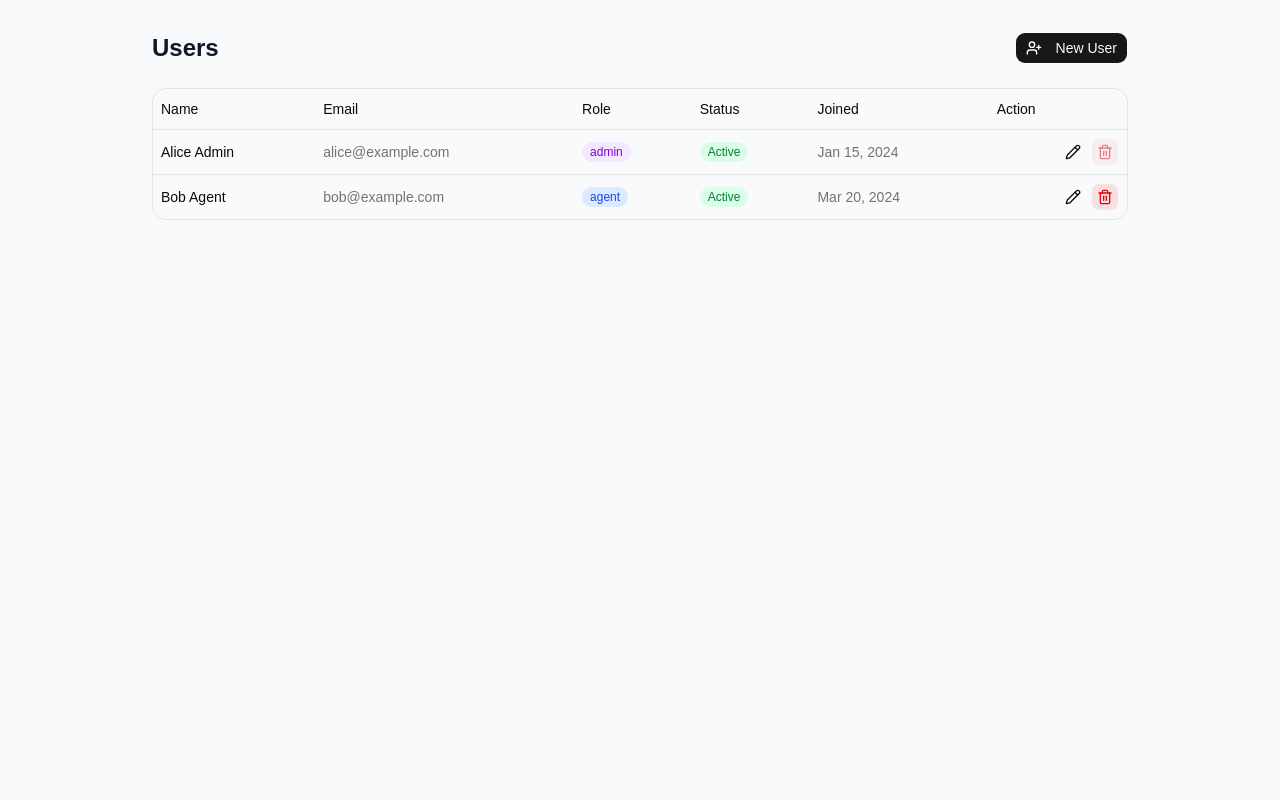
Test case: UsersPage › Edit user dialog › shows a validation error when name is cleared
expect the text "Bob Agent" is shown: met, box [153,174,315,218]
Click the button titled "Edit user" in the row of "Bob Agent" at (1073, 196), box [1059,182,1087,210]
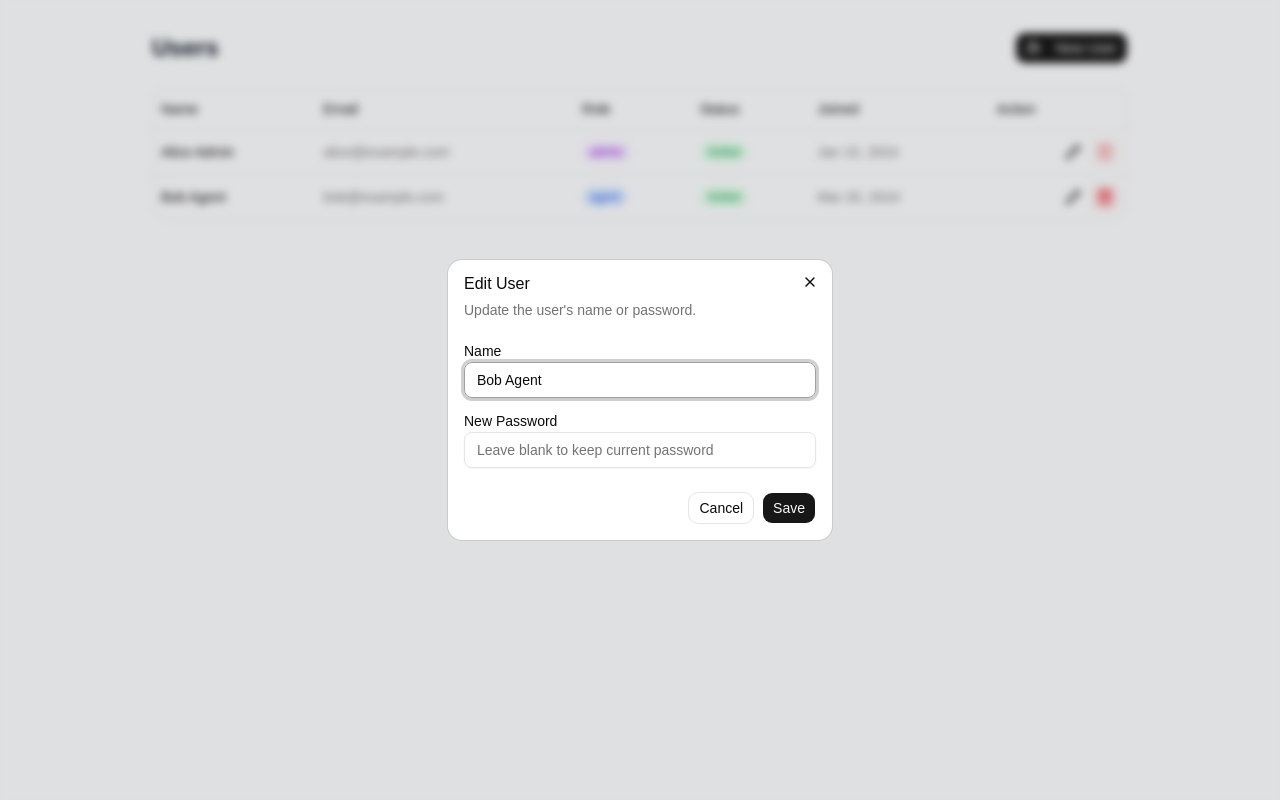
Clear the field showing "Bob Agent" at (640, 380), box [464,362,816,398]
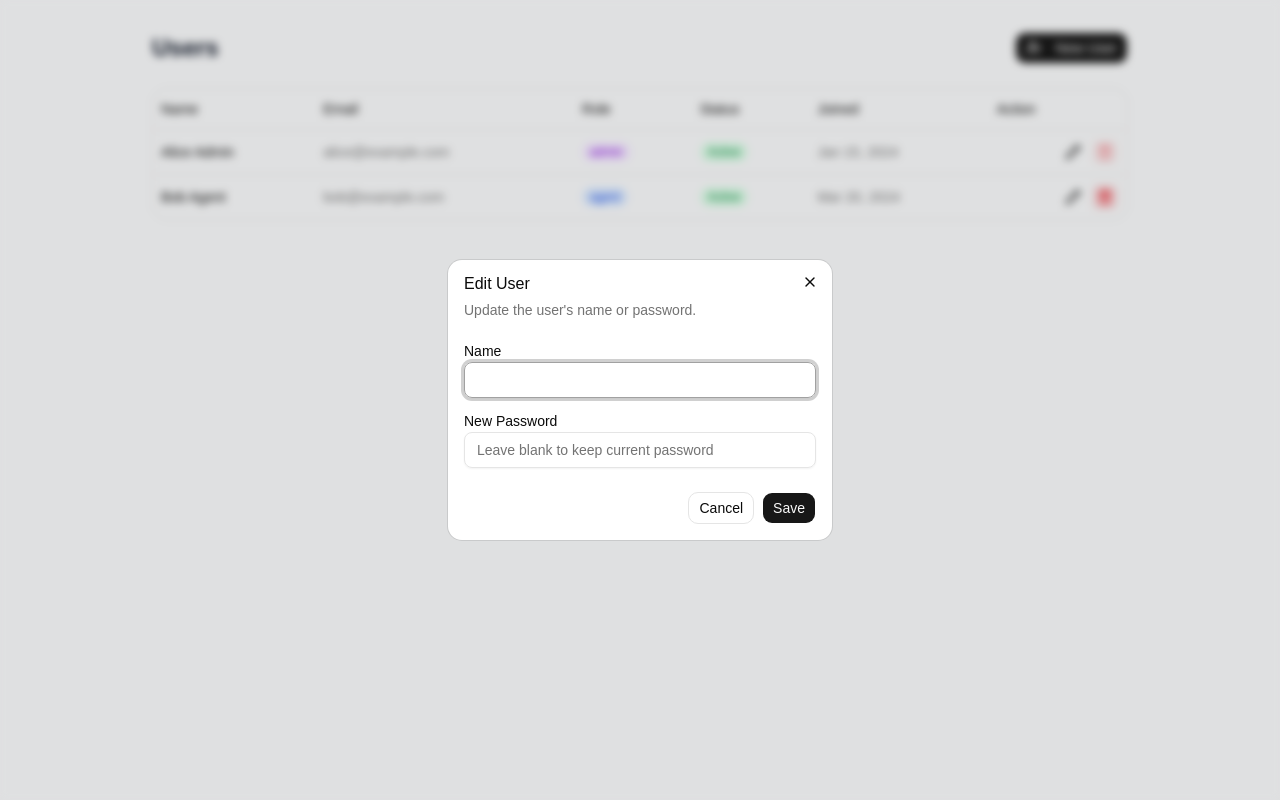
Click the button "Save" at (789, 508), box [762,492,816,524]
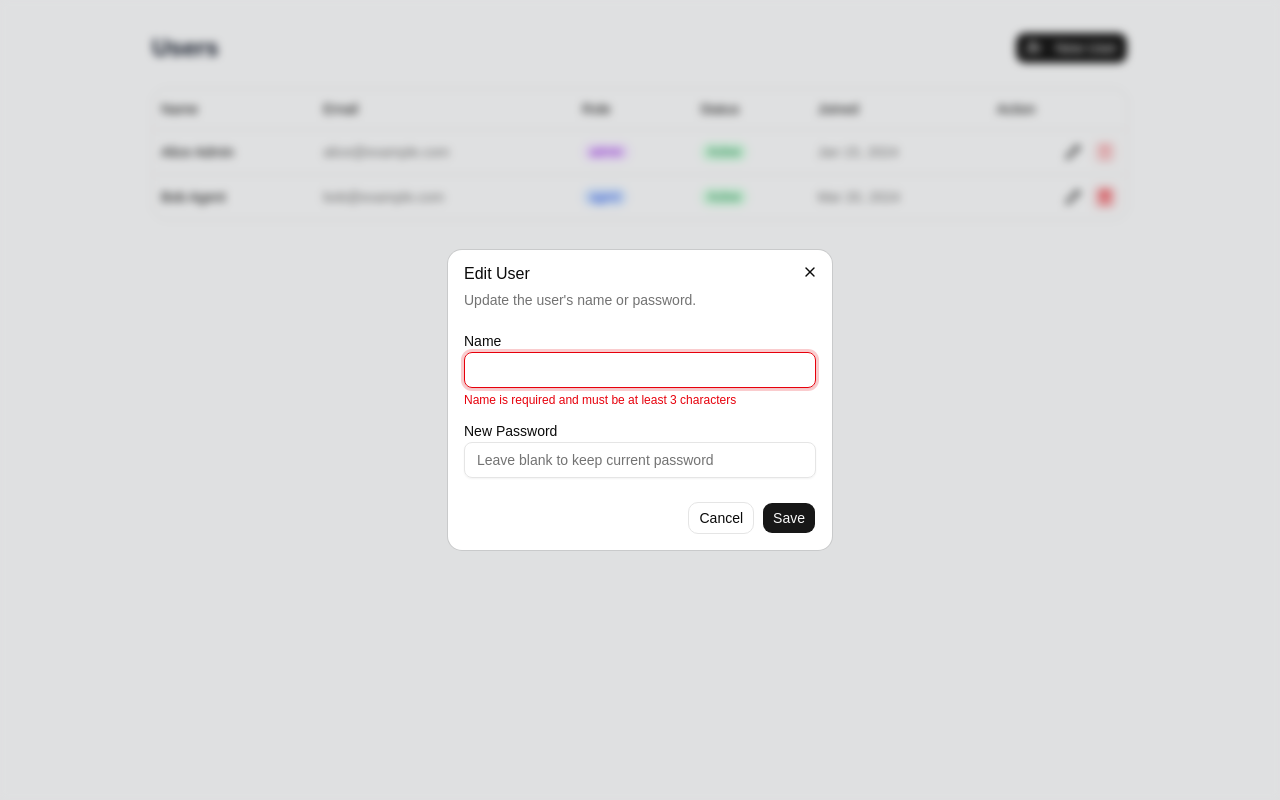
expect the text "Name is required and must be at least 3 characters" is shown: met, box [464,393,736,407]
